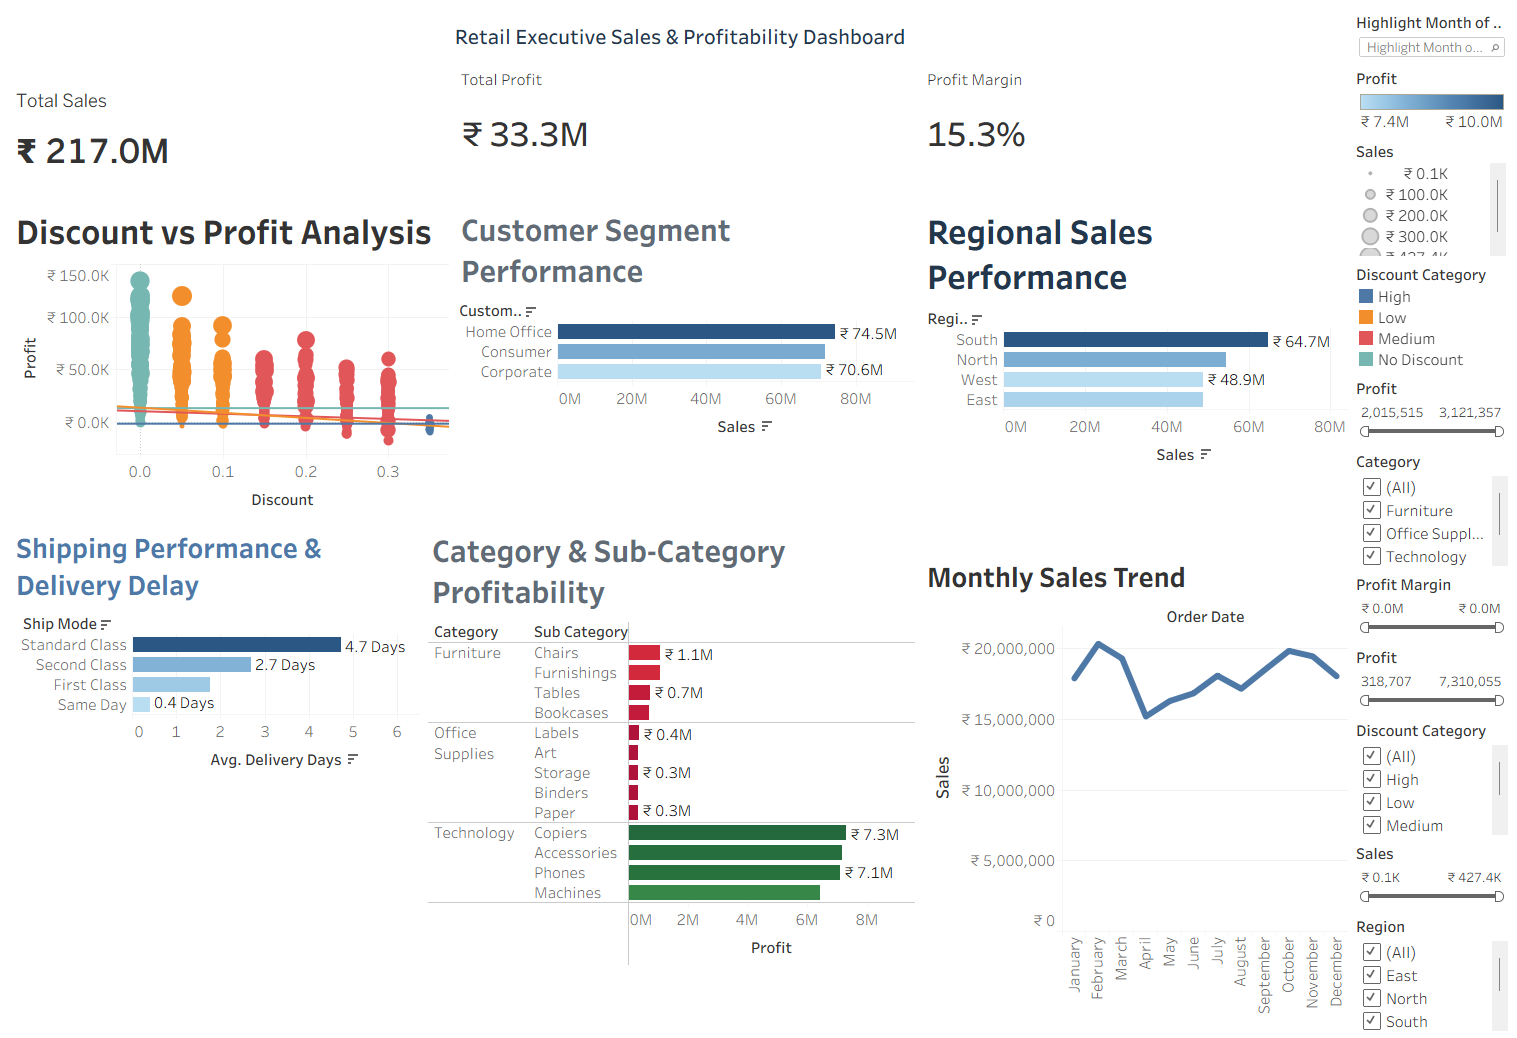

Layout of this report page (visuals, bound fields, positions):
{"tool":"tableau","page":{"name":"Retail Executive Dashboard","canvas":[1000,1000],"units":"permille","ordinal":0},"visuals":[{"type":"text","box":[6.9,13.5,847.2,53.9]},{"type":"highlighter","title":"Sales Trend View","param":"[federated.13oirfw08rlc0m1evr8rg1x6tikc].[mn:order_date:ok]","box":[854.2,13.5,138.9,87.8]},{"type":"worksheet","title":"KPI - Total Sales","mark":"Automatic","box":[6.9,67.4,280.3,128.4]},{"type":"worksheet","title":"KPI - Total Profit","mark":"Automatic","box":[287.2,67.4,294.3,128.4]},{"type":"worksheet","title":"KPI - Profit Margin","mark":"Automatic","box":[581.5,67.4,272.7,128.4]},{"type":"legend","title":"Regional Performance View","param":"[federated.13oirfw08rlc0m1evr8rg1x6tikc].[sum:profit:qk]","box":[854.2,101.3,138.9,88.5]},{"type":"legend","title":"Discount vs Profit View","param":"[federated.13oirfw08rlc0m1evr8rg1x6tikc].[sum:sales:qk]","box":[854.2,189.8,138.9,88.5]},{"type":"worksheet","title":"Discount vs Profit View","mark":"Circle","rows":["profit"],"cols":["discount"],"box":[6.9,195.8,280.3,304.2]},{"type":"worksheet","title":"Customer Segment View","mark":"Automatic","rows":["customer_segment"],"cols":["sales"],"box":[287.2,195.8,294.3,304.2]},{"type":"worksheet","title":"Regional Performance View","mark":"Automatic","rows":["region"],"cols":["sales"],"box":[581.5,195.8,272.7,331]},{"type":"legend","title":"Discount vs Profit View","param":"[federated.13oirfw08rlc0m1evr8rg1x6tikc].[none:Calculation_0514038893731845:nk]","box":[854.2,278.4,138.9,88.5]},{"type":"filter","title":"Sales Trend View","param":"[federated.13oirfw08rlc0m1evr8rg1x6tikc].[sum:profit:qk]","box":[854.2,366.9,138.9,88.5]},{"type":"filter","title":"Category Profitability View","param":"[federated.13oirfw08rlc0m1evr8rg1x6tikc].[none:category:nk]","box":[854.2,455.4,138.9,88.5]},{"type":"worksheet","title":"Shipping Performance View","mark":"Bar","rows":["ship_mode"],"cols":["delivery_days"],"box":[6.9,500,262,486.5]},{"type":"worksheet","title":"Category Profitability View","mark":"Automatic","rows":["category","sub_category"],"cols":["profit"],"box":[269,500,312.5,486.5]},{"type":"worksheet","title":"Sales Trend View","mark":"Line","rows":["sales"],"cols":["order_date"],"box":[581.5,526.8,272.7,459.7]},{"type":"filter","title":"Category Profitability View","param":"[federated.13oirfw08rlc0m1evr8rg1x6tikc].[usr:Calculation_0514038891896832:qk]","box":[854.2,543.9,138.9,88.5]},{"type":"filter","title":"Category Profitability View","param":"[federated.13oirfw08rlc0m1evr8rg1x6tikc].[sum:profit:qk]","box":[854.2,632.4,138.9,88.5]},{"type":"filter","title":"Discount vs Profit View","param":"[federated.13oirfw08rlc0m1evr8rg1x6tikc].[none:Calculation_0514038893731845:nk]","box":[854.2,720.9,138.9,88.5]},{"type":"filter","title":"Discount vs Profit View","param":"[federated.13oirfw08rlc0m1evr8rg1x6tikc].[sum:sales:qk]","box":[854.2,809.4,138.9,88.5]},{"type":"filter","title":"Regional Performance View","param":"[federated.13oirfw08rlc0m1evr8rg1x6tikc].[none:region:nk]","box":[854.2,897.9,138.9,88.6]}]}

Visuals, with their boxes on the dashboard's canvas, which has no fixed pixel size, in thousandths of its width and height (x1, y1, x2, y2). These are canvas units, not pixel positions in the 1517x1038 screenshot, which may show the page scaled, cropped or inside an application window:
text: 7 14 854 67
"Sales Trend View" highlighter: 854 14 993 101
"KPI - Total Sales" worksheet: 7 67 287 196
"KPI - Total Profit" worksheet: 287 67 582 196
"KPI - Profit Margin" worksheet: 582 67 854 196
"Regional Performance View" legend: 854 101 993 190
"Discount vs Profit View" legend: 854 190 993 278
"Discount vs Profit View" worksheet (Circle marks): 7 196 287 500
"Customer Segment View" worksheet: 287 196 582 500
"Regional Performance View" worksheet: 582 196 854 527
"Discount vs Profit View" legend: 854 278 993 367
"Sales Trend View" filter: 854 367 993 455
"Category Profitability View" filter: 854 455 993 544
"Shipping Performance View" worksheet (Bar marks): 7 500 269 986
"Category Profitability View" worksheet: 269 500 582 986
"Sales Trend View" worksheet (Line marks): 582 527 854 986
"Category Profitability View" filter: 854 544 993 632
"Category Profitability View" filter: 854 632 993 721
"Discount vs Profit View" filter: 854 721 993 809
"Discount vs Profit View" filter: 854 809 993 898
"Regional Performance View" filter: 854 898 993 986
